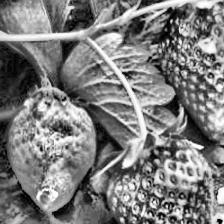Gray Mold: (7, 88, 98, 212)
